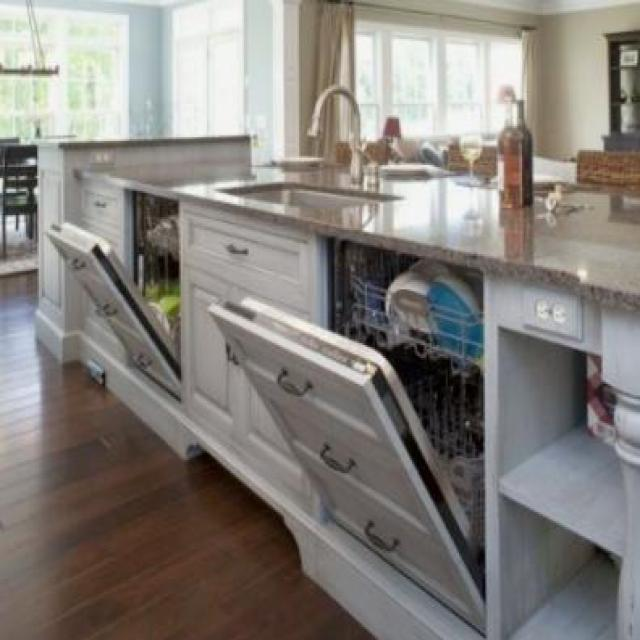dishwasher: (205, 222, 488, 616)
